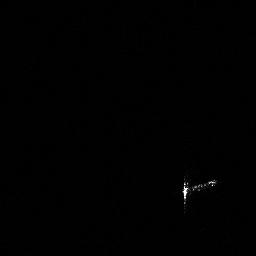ship: (183, 179, 217, 194)
